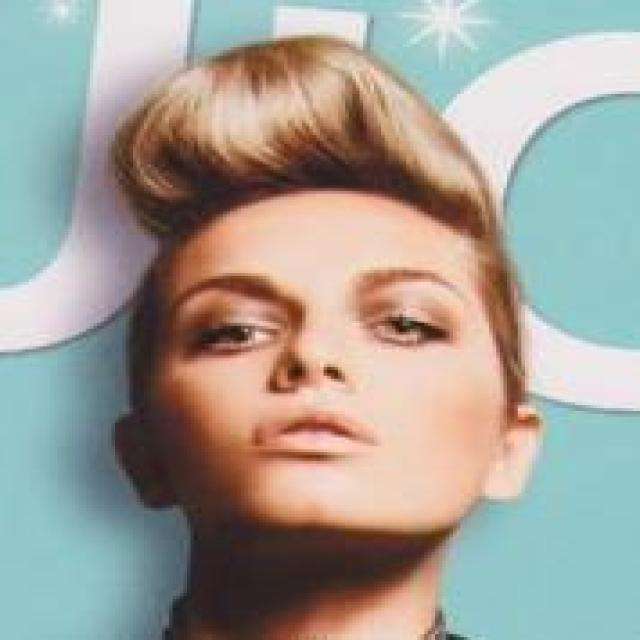bareface: (107, 53, 498, 542)
